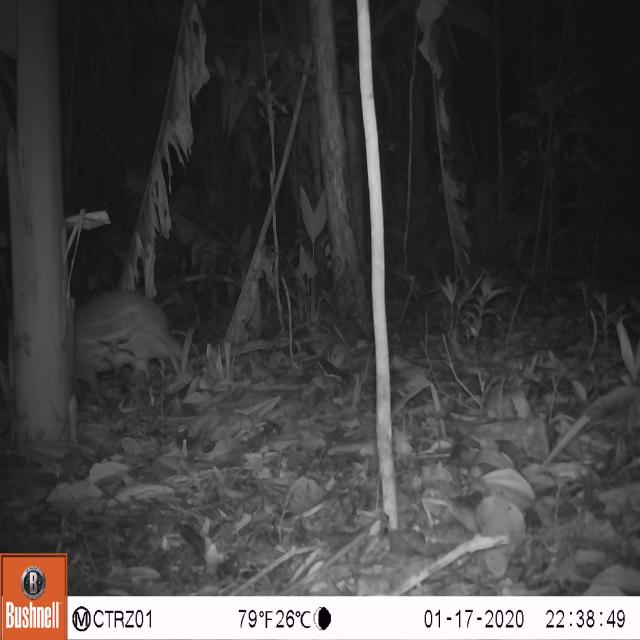Spotted Paca: (67, 286, 201, 406)
